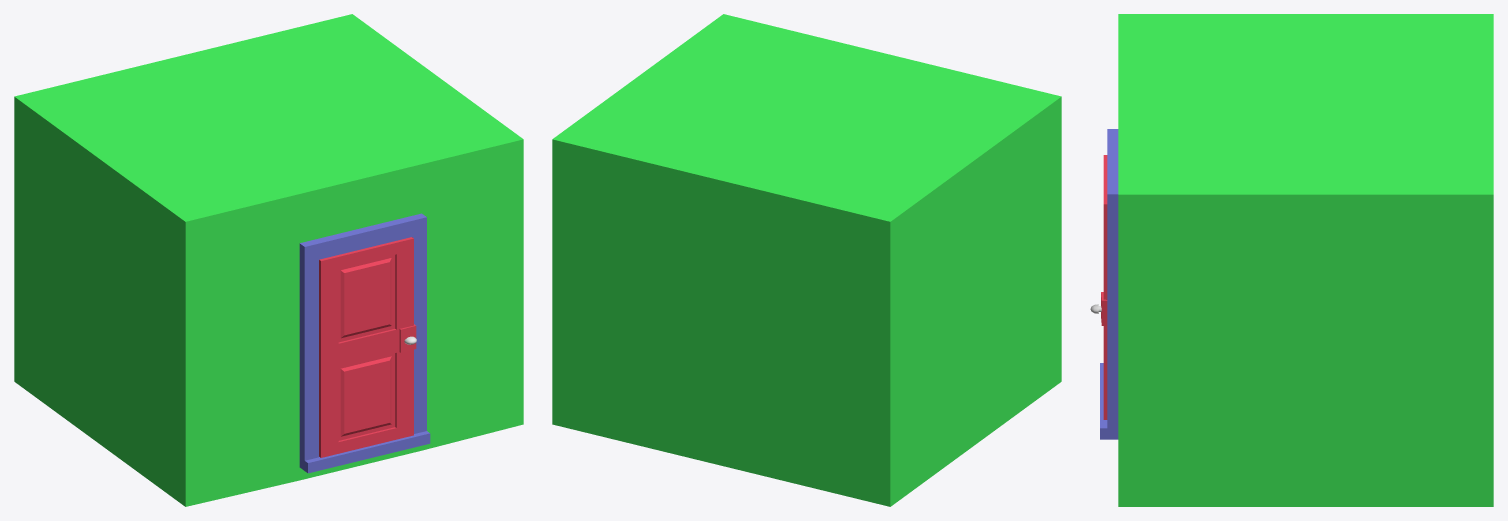
The model's file is Nytt_Rom+Dor.FBX.
3 renders of one model, left to right at view 1: azimuth 30°, elevation 25°; view 2: azimuth 150°, elevation 25°; view 3: azimuth 270°, elevation 25°, orthographic. The views are drawn at different scales.
Parts seen in each view (by area): view 1: Depthmask_Rom, Door, Doorframe; view 2: Depthmask_Rom; view 3: Depthmask_Rom, Doorframe, Door.
Part boxes in pixels (<box>): Depthmask_Rom: <box>14,14,523,506</box>; Door: <box>319,237,416,457</box>; Doorframe: <box>299,213,430,473</box>; Depthmask_Rom: <box>552,14,1061,506</box>; Depthmask_Rom: <box>1118,14,1493,506</box>; Doorframe: <box>1100,129,1118,439</box>; Door: <box>1101,155,1107,419</box>.
Bounding box in the file's own units: 153 × 124 × 145.
